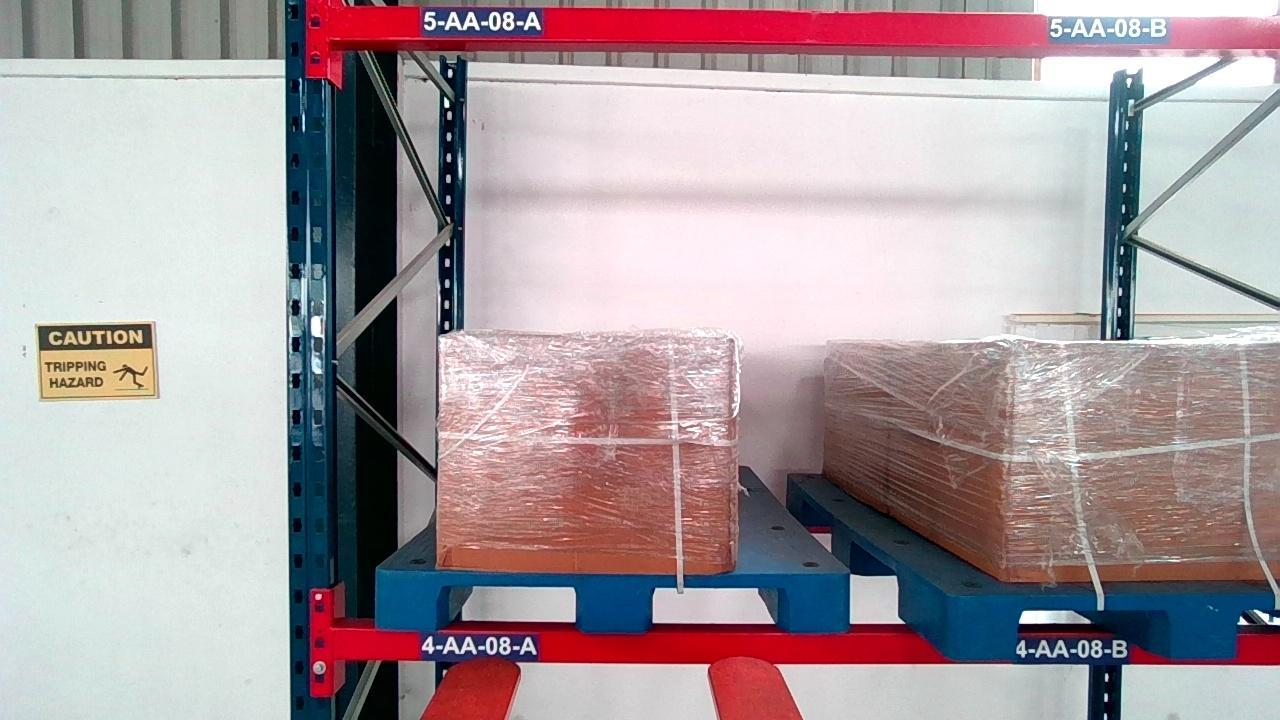h_rack: (335, 5, 1277, 48), (332, 628, 1279, 665)
small_pallet: (375, 570, 848, 634), (951, 596, 1277, 659)
